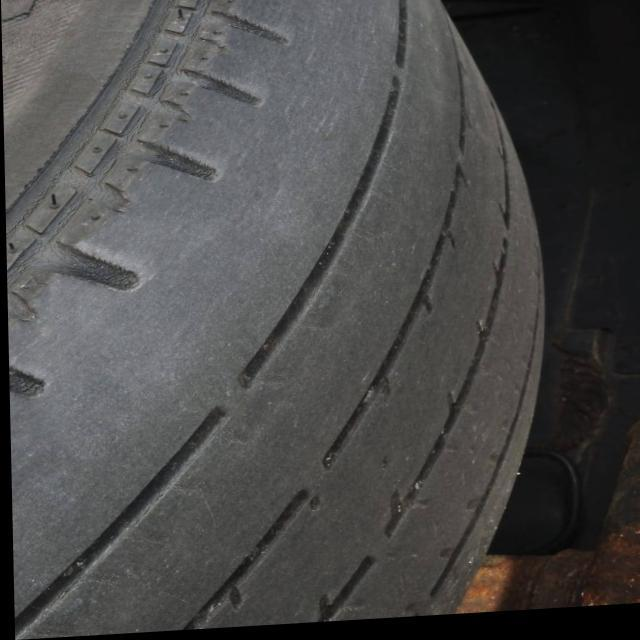Flat spots: (159, 118, 507, 504)
